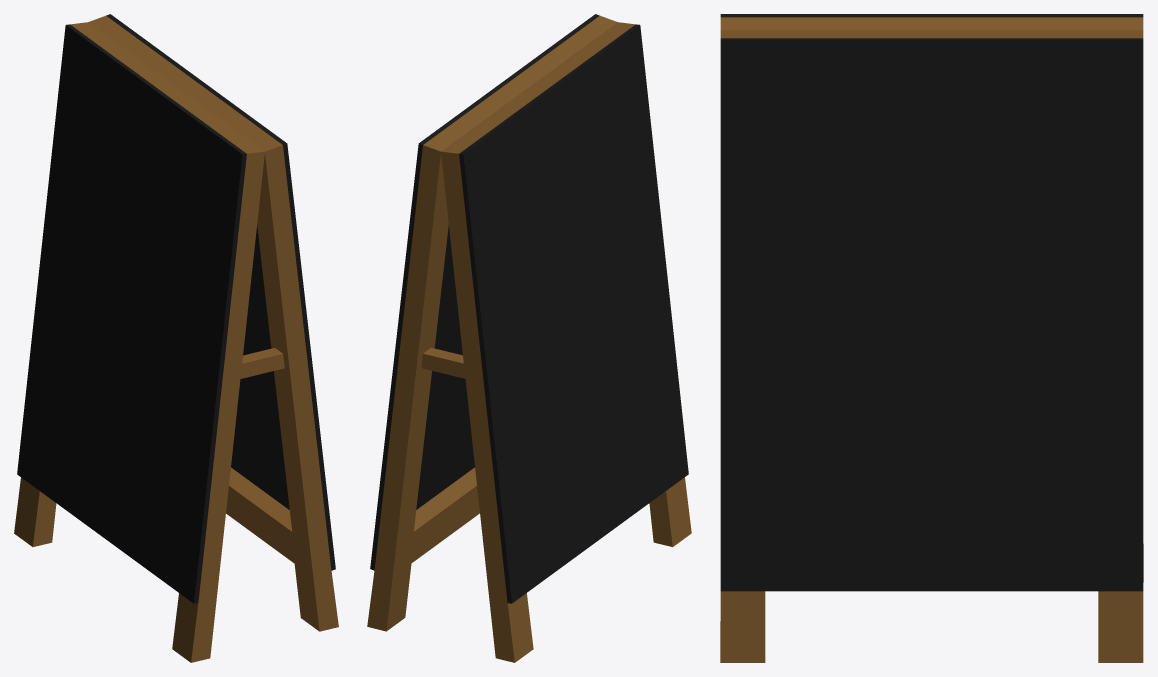
File: доска (1).fbx
3 renders of one model, left to right at view 1: azimuth 30°, elevation 25°; view 2: azimuth 150°, elevation 25°; view 3: azimuth 270°, elevation 25°, orthographic. The views are drawn at different scales.
Visible parts, largest first — view 1: Cube.002, Cube, Cube.003, Cube.001, Cube.004; view 2: Cube.002, Cube, Cube.003, Cube.001, Cube.005; view 3: Cube.001, Cube, Cube.003, Cube.002.
Boxes of the visible parts, box(x1,y1,x2,y2) form: Cube.002: box(17, 24, 246, 603); Cube: box(88, 15, 338, 631); Cube.003: box(14, 22, 264, 662); Cube.001: box(106, 14, 335, 570); Cube.004: box(240, 348, 284, 378); Cube.002: box(459, 24, 688, 603); Cube: box(367, 15, 617, 631); Cube.003: box(441, 22, 691, 662); Cube.001: box(370, 14, 599, 570); Cube.005: box(421, 347, 465, 378); Cube.001: box(720, 38, 1143, 591); Cube: box(720, 30, 1143, 662); Cube.003: box(720, 17, 1143, 582); Cube.002: box(720, 14, 1143, 17).
Bounding box in the file's own units: 96.49 × 309 × 200.
